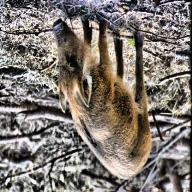boar: (38, 12, 172, 173)
